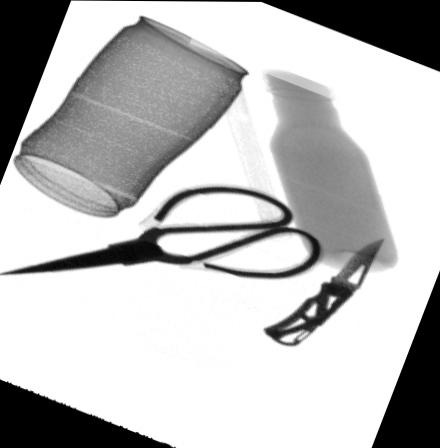Knife: (260, 238, 384, 346)
Scissors: (0, 182, 326, 280)
